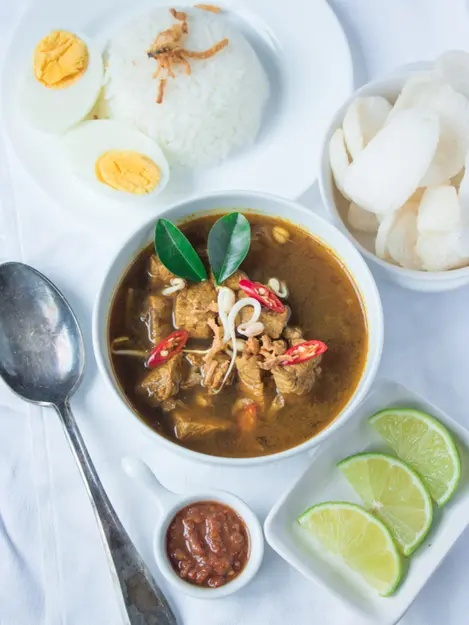rawon: (113, 227, 347, 442)
